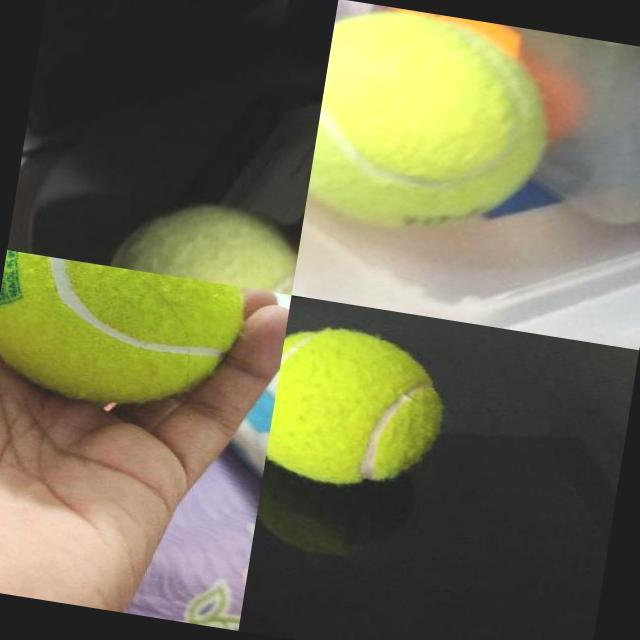Tennis Ball: (304, 1, 566, 251), (0, 250, 249, 425), (264, 318, 456, 499), (105, 186, 302, 294)
